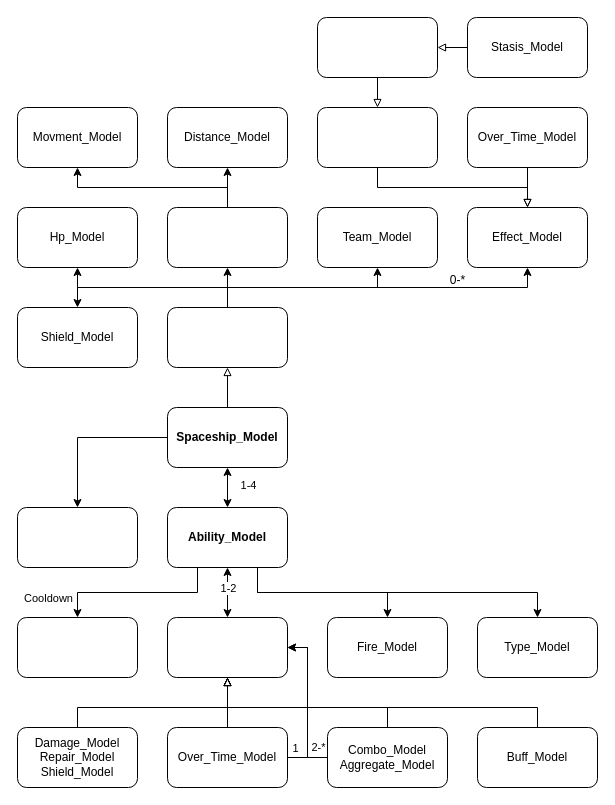
Some shapes in this 615 by 805 pixel diagram are drawn without their labels. Here are the shapes that lost their labels. From the top down, the centre of each, then its label:
At (x=377, y=47): "Stun_Model".
At (x=377, y=137): "Root_Model".
At (x=227, y=237): "Position_Model".
At (x=227, y=337): "Entity_Model".
At (x=77, y=537): "Armor_Model".
At (x=77, y=647): "Timer_Model".
At (x=227, y=647): "Action_Model".
